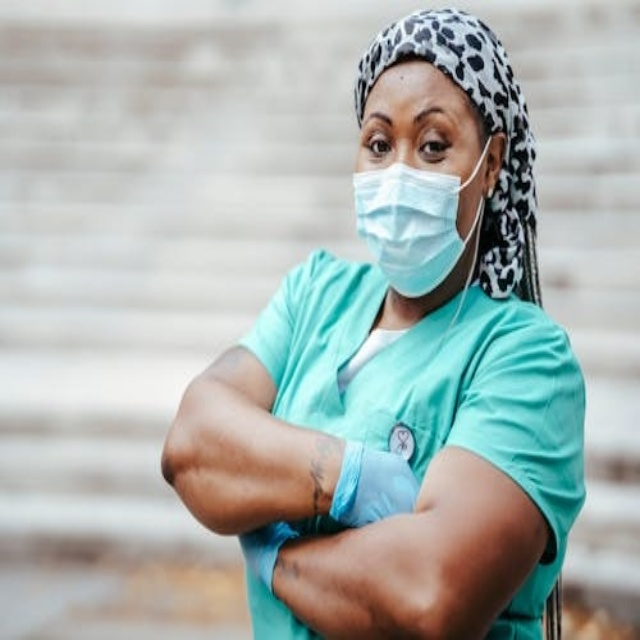Guantes: (330, 440, 423, 534), (241, 519, 303, 596)
Mascara: (355, 138, 486, 295)
Sin_gafas: (356, 110, 475, 161)
